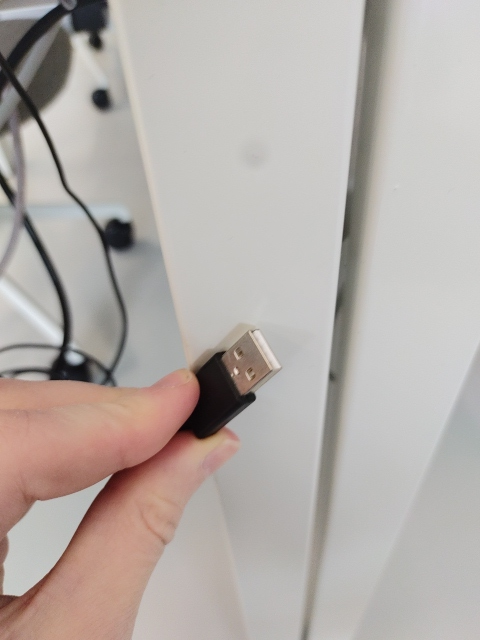USB: (221, 326, 281, 394)
